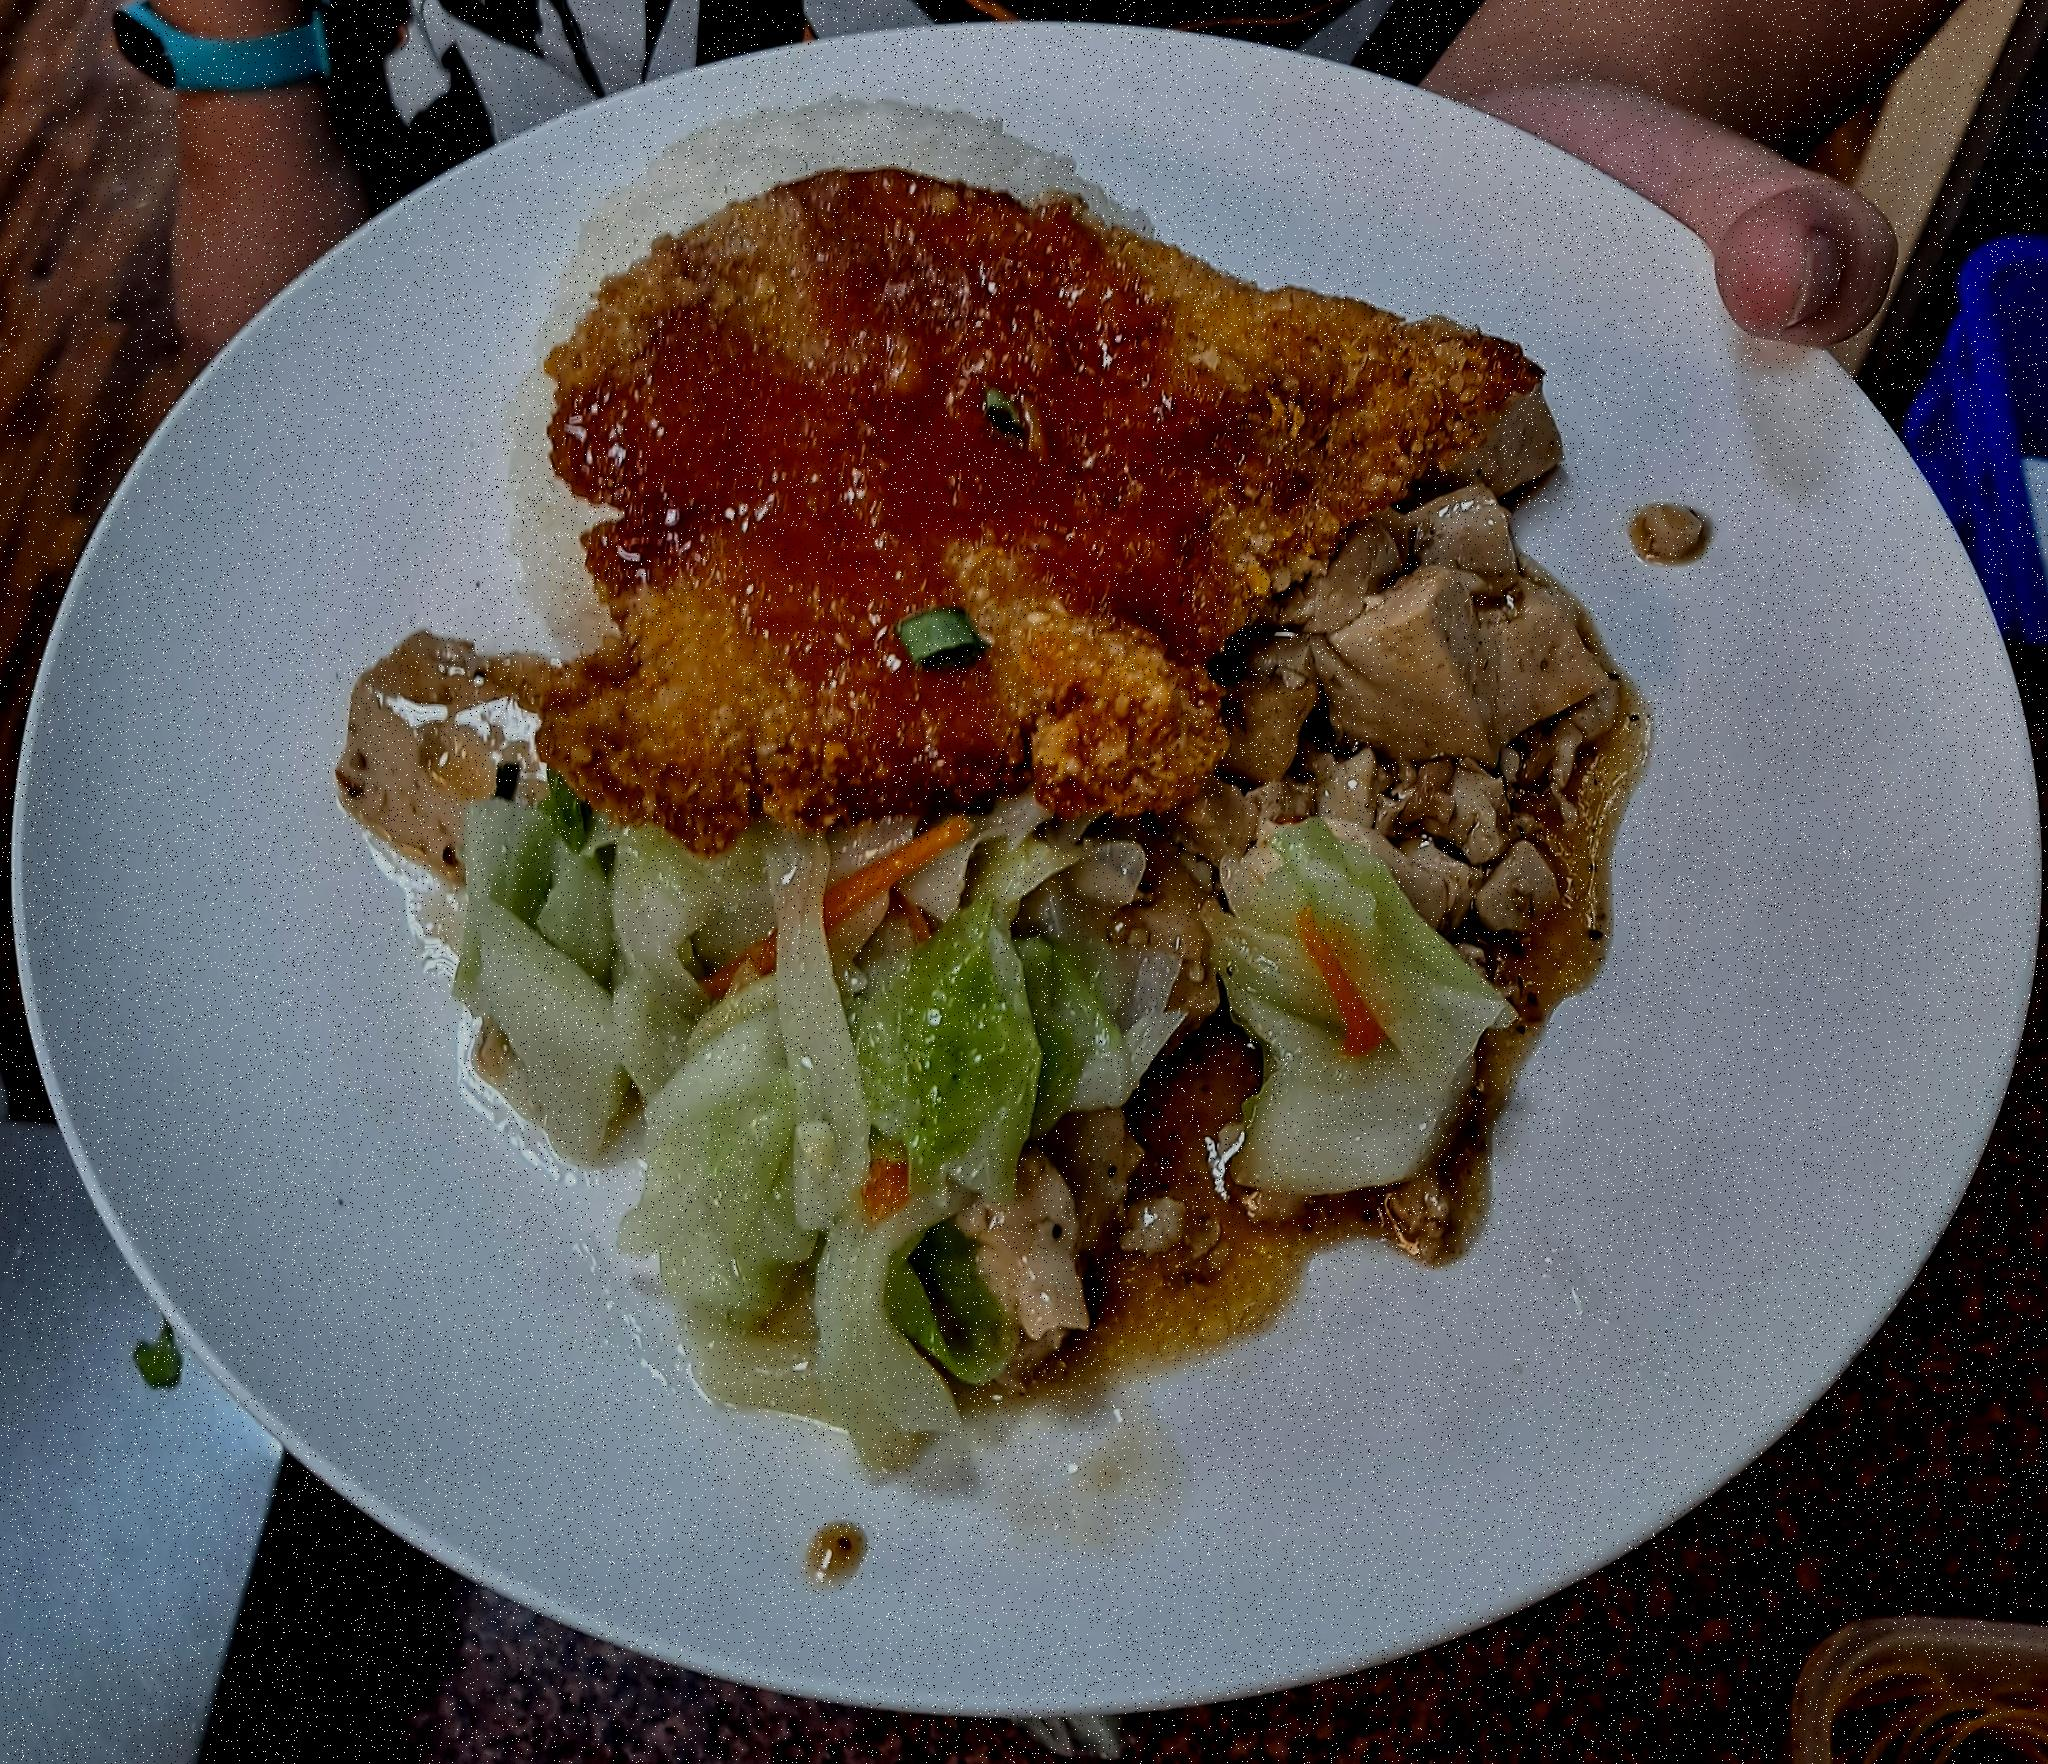big fried chicken leg: (9, 5, 2048, 1734)
big herbal chicken leg: (524, 94, 1156, 655)
braised fish fillet: (439, 787, 1141, 1484), (1155, 474, 1632, 1017)
braised pork: (528, 164, 1536, 829)
